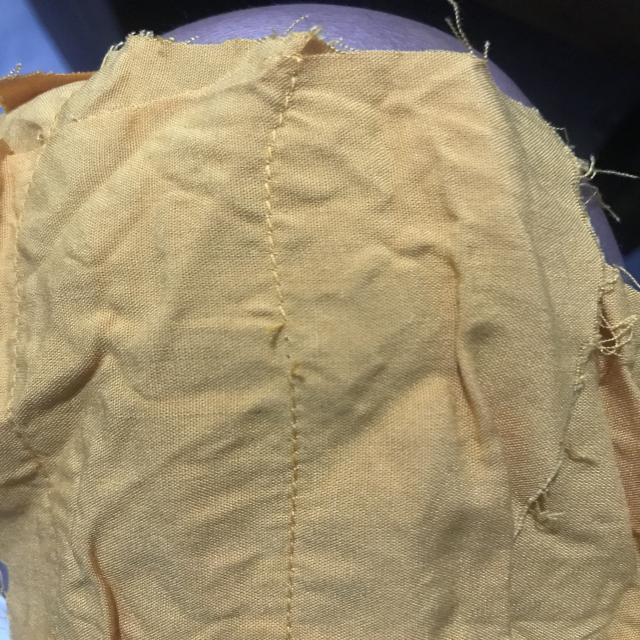broken: (250, 313, 335, 389)
good: (254, 192, 296, 280), (280, 430, 310, 540)
